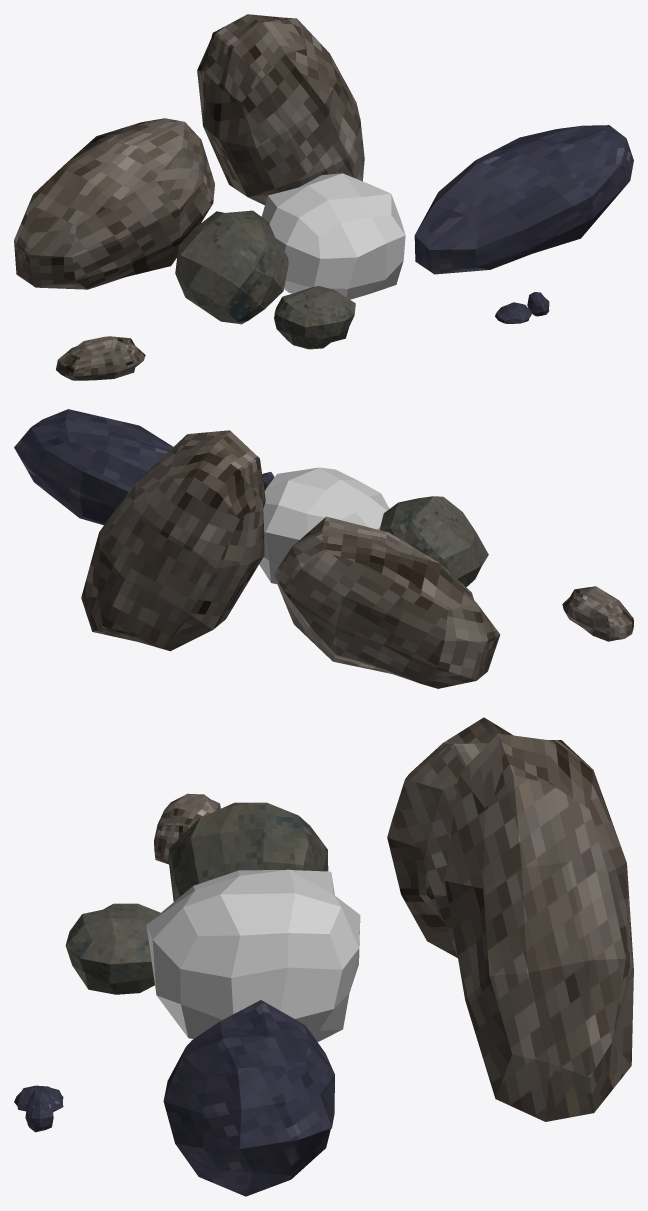
The model's file is rockfinal.fbx.
The picture shows the model from 3 angles, top to bottom: view 1: azimuth 30°, elevation 25°; view 2: azimuth 150°, elevation 25°; view 3: azimuth 270°, elevation 25°; orthographic projection. The views are drawn at different scales.
Visible parts, largest first — view 1: 立方体.006, 立方体.005, 立方体.002, Cube, 立方体, 立方体.001, 立方体.007, 立方体.003; view 2: 立方体.005, 立方体.006, 立方体.002, Cube, 立方体, 立方体.007; view 3: 立方体.005, Cube, 立方体.002, 立方体.006, 立方体, 立方体.001, 立方体.007, 立方体.004.
Part boxes in pixels (box(x1,y1,x2,y2)): 立方体.006: box(14, 118, 214, 289); 立方体.005: box(197, 14, 364, 205); 立方体.002: box(414, 125, 633, 274); Cube: box(261, 173, 405, 299); 立方体: box(175, 210, 288, 324); 立方体.001: box(274, 286, 355, 349); 立方体.007: box(56, 336, 145, 380); 立方体.003: box(495, 302, 531, 323); 立方体.005: box(81, 430, 265, 651); 立方体.006: box(273, 516, 500, 688); 立方体.002: box(14, 409, 172, 525); Cube: box(259, 467, 389, 584); 立方体: box(379, 496, 488, 587); 立方体.007: box(562, 586, 633, 641); 立方体.005: box(444, 733, 633, 1121); Cube: box(146, 869, 360, 1041); 立方体.002: box(163, 1000, 334, 1196); 立方体.006: box(387, 717, 513, 957); 立方体: box(168, 802, 328, 901); 立方体.001: box(65, 903, 160, 994); 立方体.007: box(154, 793, 220, 864); 立方体.004: box(25, 1089, 53, 1132).
Bounding box in the file's own units: 815 × 283 × 503.
